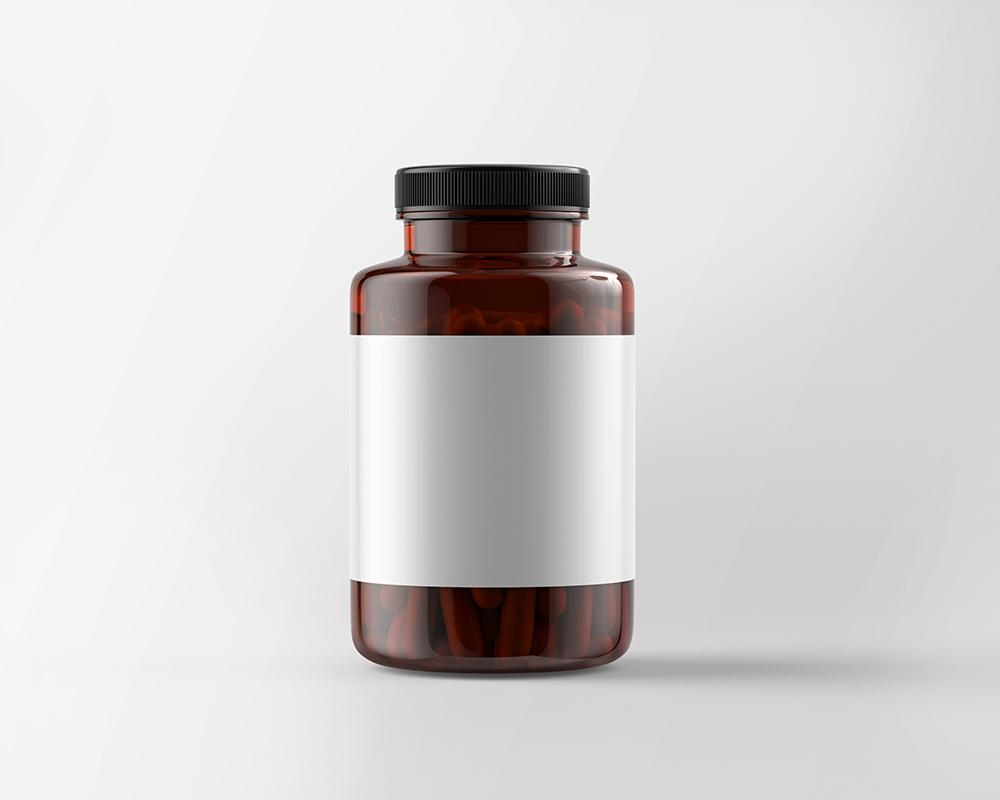jar: (344, 162, 652, 677)
